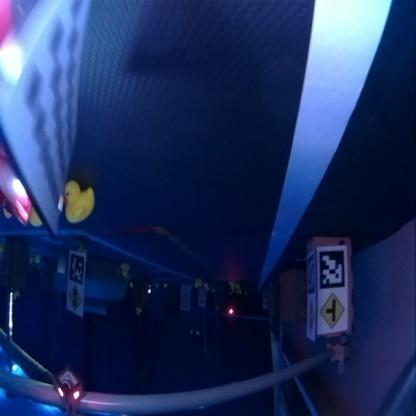Duckie: (64, 184, 93, 222), (120, 264, 128, 276), (194, 280, 201, 288), (229, 282, 234, 290)
Duckiebot: (1, 9, 87, 228)
Intersection sign: (319, 294, 345, 332)
QR code: (318, 248, 344, 290), (69, 254, 84, 282), (306, 252, 315, 296)
Signal sign: (67, 287, 83, 312), (306, 300, 316, 338)
Traffic light: (56, 372, 84, 412)
